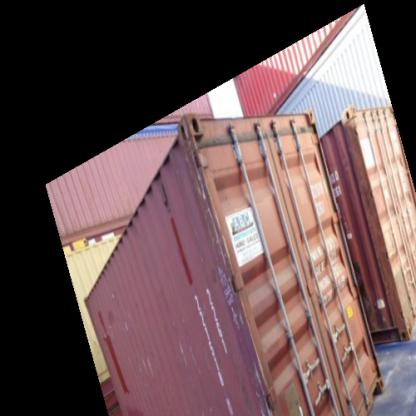Damage: (191, 165, 213, 211), (172, 124, 202, 153), (136, 349, 159, 385), (172, 338, 198, 364), (104, 290, 126, 306), (122, 313, 136, 331)
